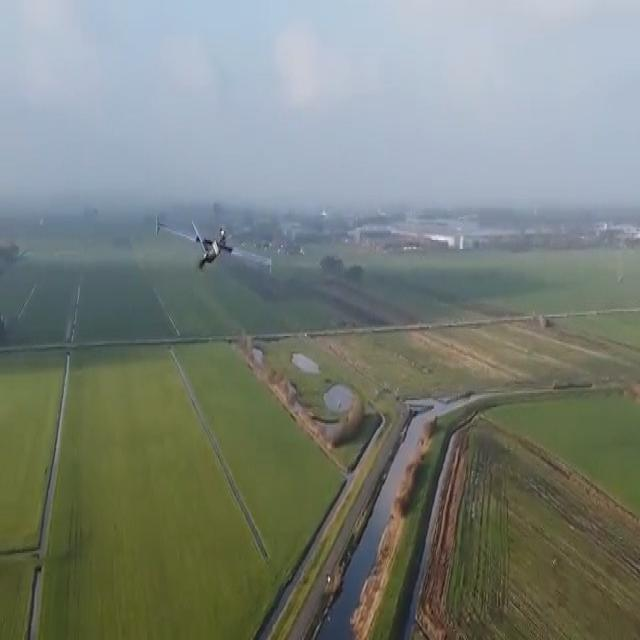drones: (150, 201, 278, 286)
